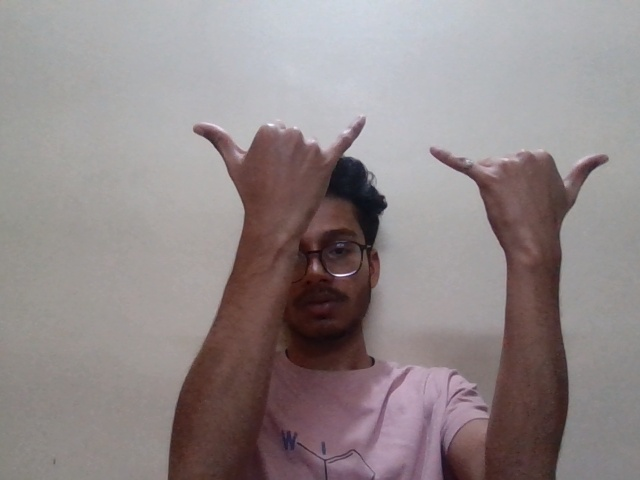today: (190, 109, 614, 249)
